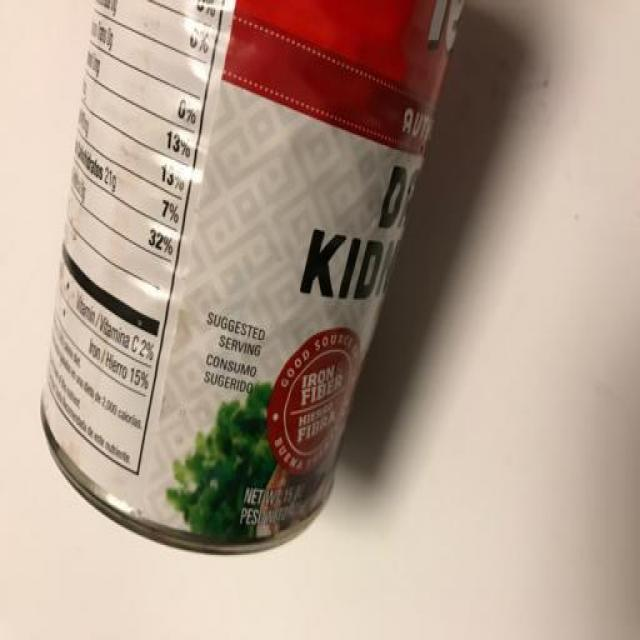metel: (36, 2, 426, 532)
